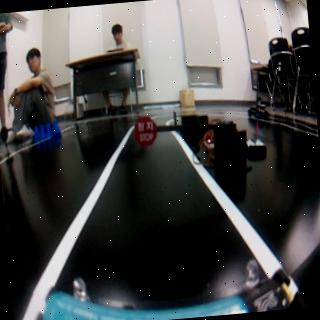stop: (132, 116, 160, 146)
